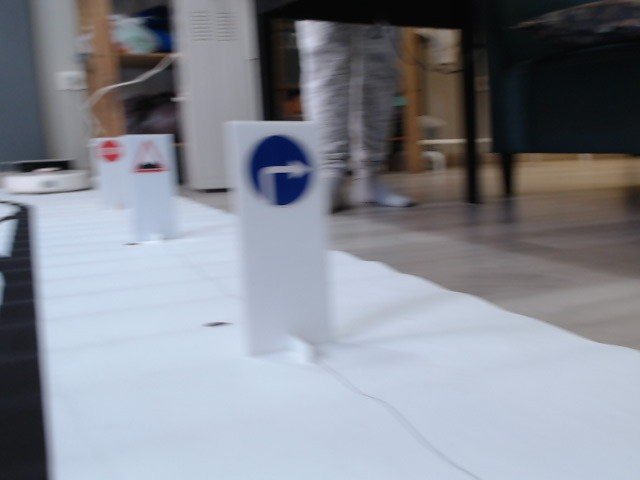Nerov: (131, 139, 170, 174)
Right: (244, 135, 312, 204)
